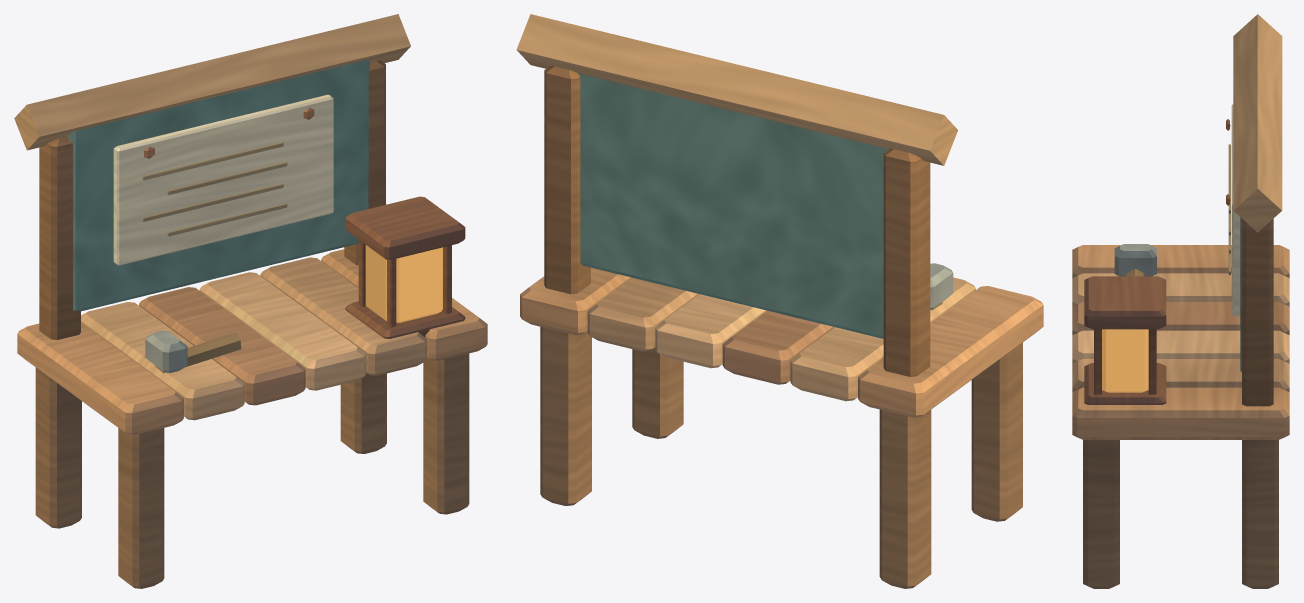
The model's file is pier_board.glb.
The picture shows the model from 3 angles, left to right: view 1: azimuth 30°, elevation 25°; view 2: azimuth 150°, elevation 25°; view 3: azimuth 270°, elevation 25°; orthographic projection. The views are drawn at different scales.
Visible parts, largest first — view 1: Fischersteg · Bautisch und Aushang; view 2: Fischersteg · Bautisch und Aushang; view 3: Fischersteg · Bautisch und Aushang.
Boxes of the visible parts, x1,y1,x2,y2 form: Fischersteg · Bautisch und Aushang: (14, 14, 487, 588); Fischersteg · Bautisch und Aushang: (516, 14, 1043, 588); Fischersteg · Bautisch und Aushang: (1072, 14, 1289, 588).
Size of the model in its own units: 1.56 by 1.71 by 0.82.
Materials: 3 (2 with a texture image).
